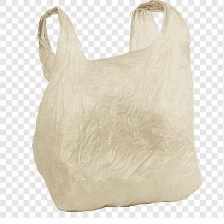plastic_bag: (27, 0, 206, 213)
